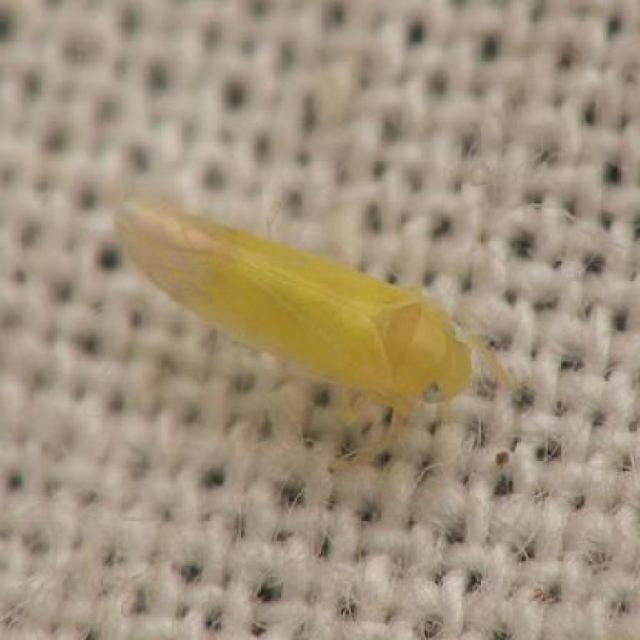green-leafhopper: (113, 199, 515, 467)
